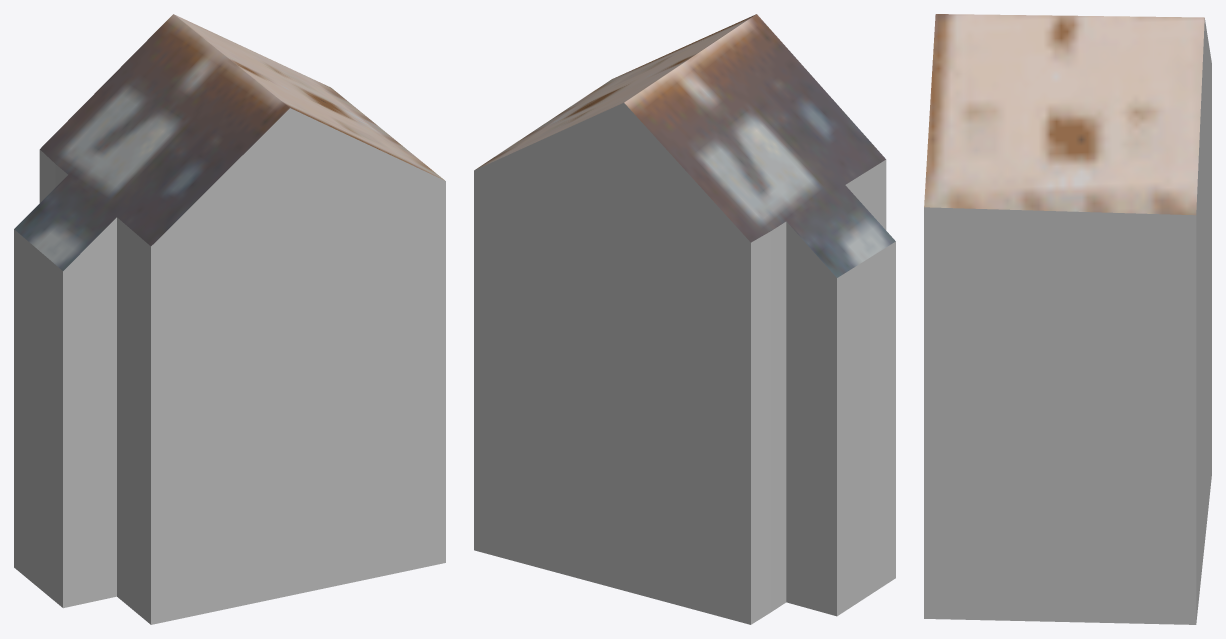
Rendered from DEBW_0010007TvjJ.gltf.
3 renders of one model, left to right at view 1: azimuth 30°, elevation 25°; view 2: azimuth 150°, elevation 25°; view 3: azimuth 270°, elevation 25°, orthographic. The views are drawn at different scales.
Visible parts, largest first — view 1: Z_UP; view 2: Z_UP; view 3: Z_UP.
Part boxes in pixels (x1,y1,x2,y2): Z_UP: [14, 14, 445, 624]; Z_UP: [474, 14, 895, 624]; Z_UP: [924, 14, 1211, 624].
Size of the model in its own units: 14 by 18.93 by 9.38.
2 materials, 1 textured.
